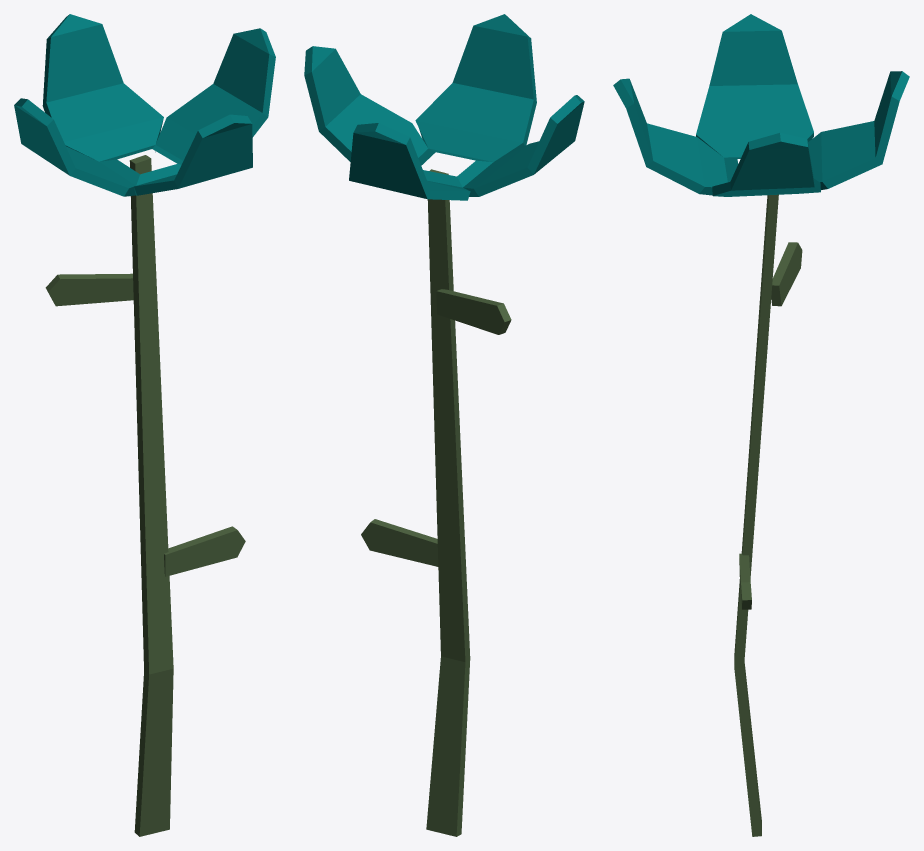
The model's file is Flower_4.gltf.
The picture shows the model from 3 angles, left to right: view 1: azimuth 30°, elevation 25°; view 2: azimuth 150°, elevation 25°; view 3: azimuth 270°, elevation 25°; orthographic projection.
Parts seen in each view (by area): view 1: Flower_4; view 2: Flower_4; view 3: Flower_4.
Part boxes in pixels (x1,y1,x2,y2): Flower_4: (14, 14, 275, 836); Flower_4: (304, 14, 584, 836); Flower_4: (613, 14, 909, 836).
Bounding box in the file's own units: 0.2918 × 0.8209 × 0.2926.
